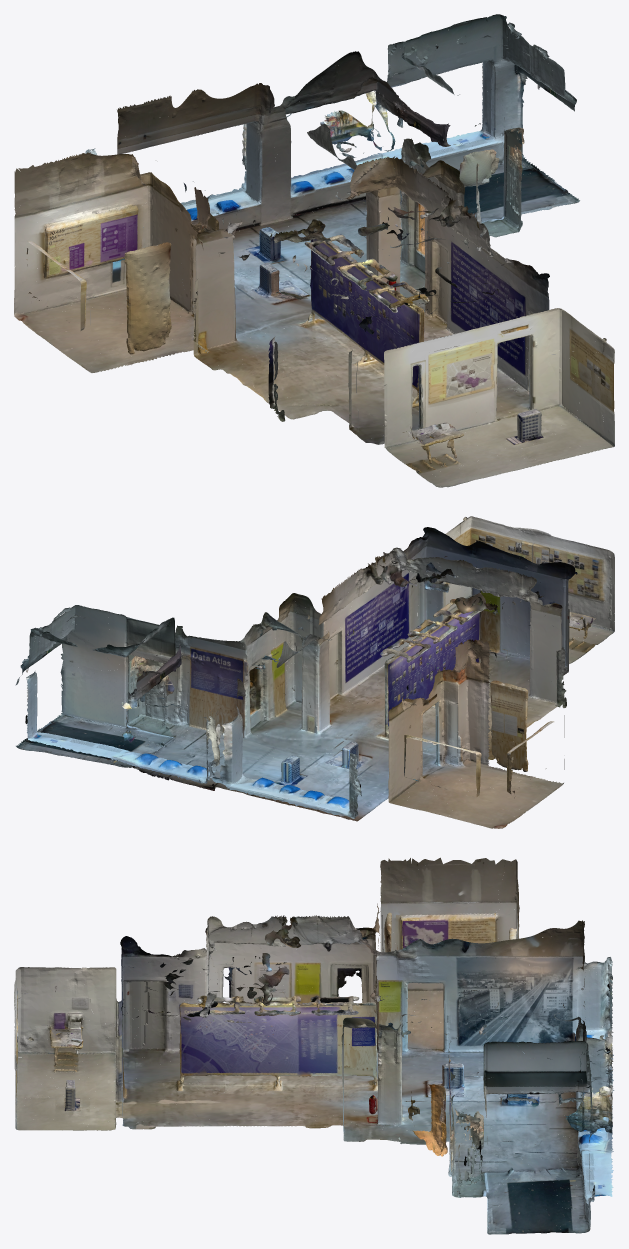
The model's file is interior.glb.
The picture shows the model from 3 angles, top to bottom: view 1: azimuth 30°, elevation 25°; view 2: azimuth 150°, elevation 25°; view 3: azimuth 270°, elevation 25°; orthographic projection. The views are drawn at different scales.
Size of the model in its own units: 14.64 by 3.97 by 15.51.
6 materials, 6 textured.
